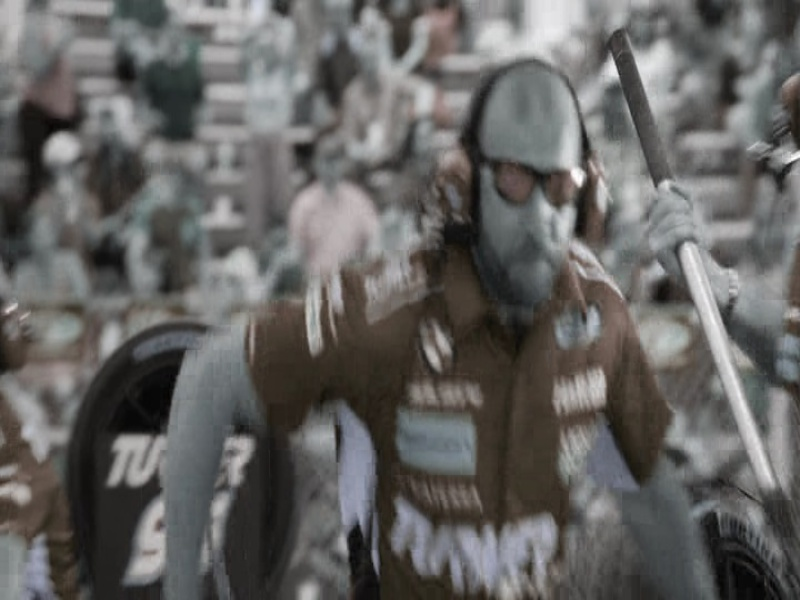TsisyArotava: (437, 67, 625, 347)
